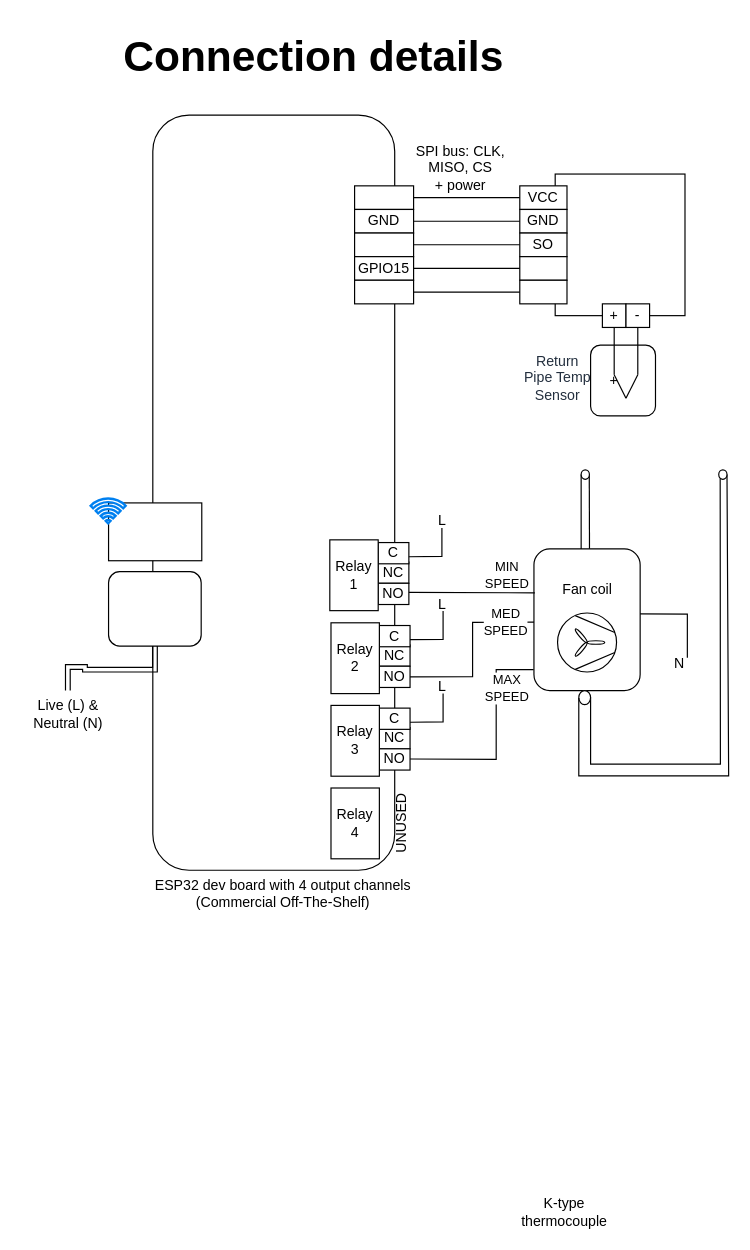
Image size: 750x1250. Some labels were removed from this diagram. The shapes that lost their labels are listed below. From the top down, each one's box as (x1, y1, x2, y2) in pixels, then its label:
(353, 185, 414, 209): 3.3V
(353, 232, 414, 257): GPIO16
(554, 173, 685, 316): MAX6675 breakout board
(519, 255, 567, 280): CS
(353, 279, 414, 304): GPIO17
(519, 279, 567, 304): SCK
(107, 502, 202, 561): ESP32-WROOM
(107, 571, 201, 646): Onboard 220V to 5V adapter
